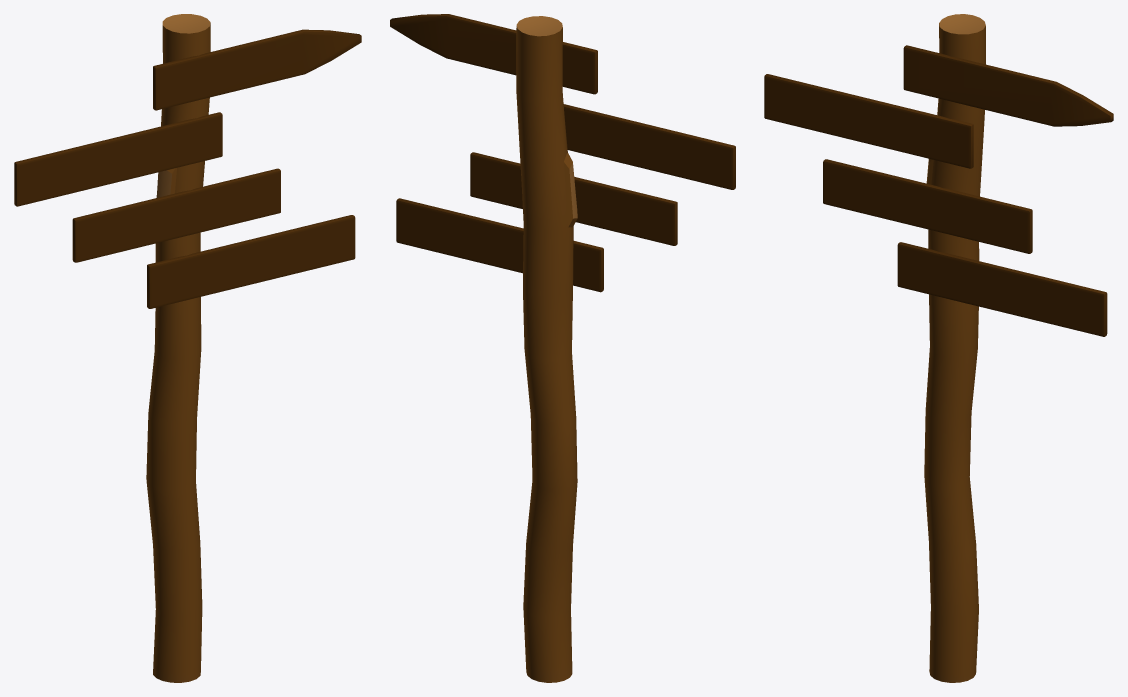
The model's file is Sem4_Prop_WegweiserMenu_JT_M.fbx.
3 renders of one model, left to right at view 1: azimuth 30°, elevation 25°; view 2: azimuth 150°, elevation 25°; view 3: azimuth 330°, elevation 25°, orthographic.
Visible parts, largest first — view 1: Menu; view 2: Menu; view 3: Menu.
Part boxes in pixels (x1,y1,x2,y2): Menu: [14, 14, 361, 682]; Menu: [390, 14, 735, 682]; Menu: [764, 14, 1113, 682].
Bounding box in the file's own units: 167 × 300 × 21.85.
